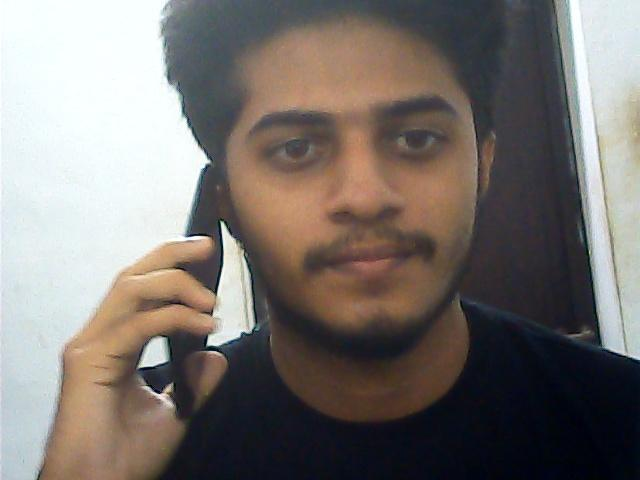PhoneUse: (176, 157, 228, 417)
SafeDriving: (372, 107, 458, 166), (255, 121, 338, 172)
